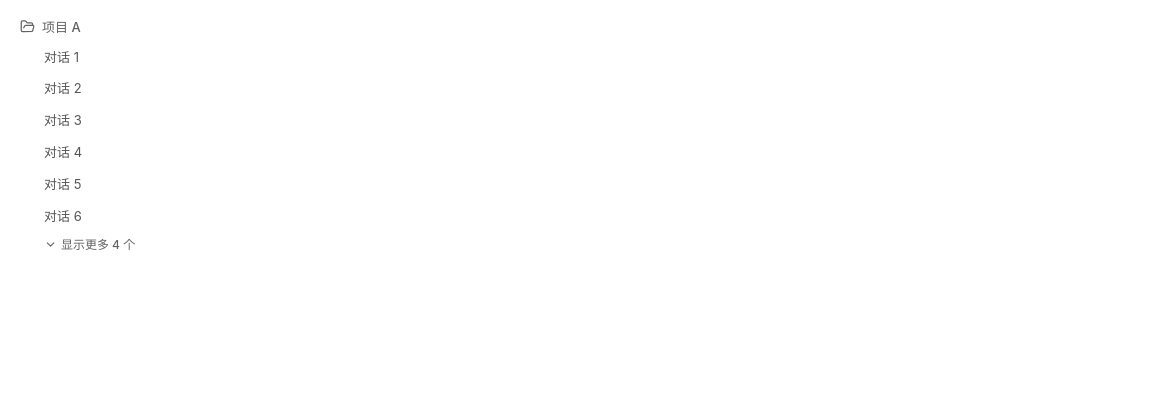
Test: ConversationTree › limits each project to six conversations until the user expands it
expect the text "对话 6" is shown: met, box [44,208,82,224]
expect the text "对话 7" is not shown: met
Click the button "显示更多 4 个".
click(98, 244)  # box [44,237,1164,253]
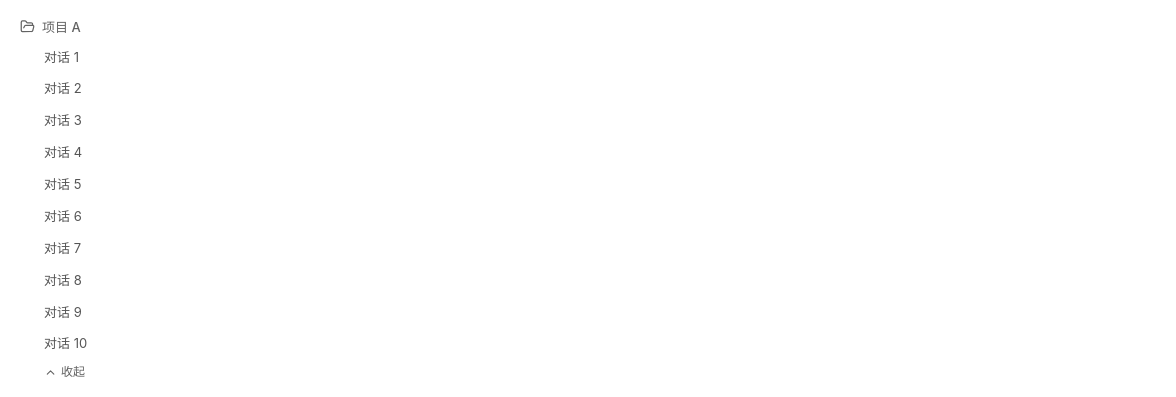
expect the text "对话 7" is shown: met, box [44,240,81,256]
expect the button "收起" is shown: met, box [44,364,1164,380]
